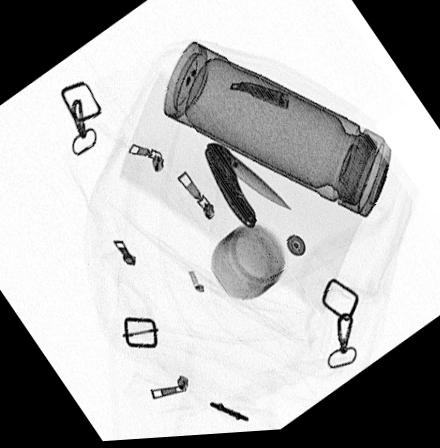Knife: (201, 143, 291, 232)
